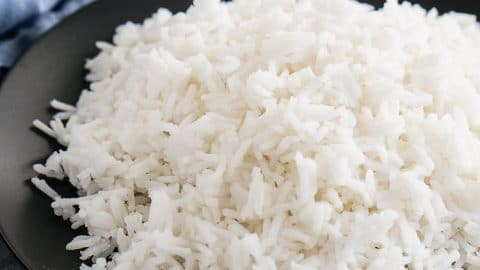rice: (106, 1, 479, 264)
